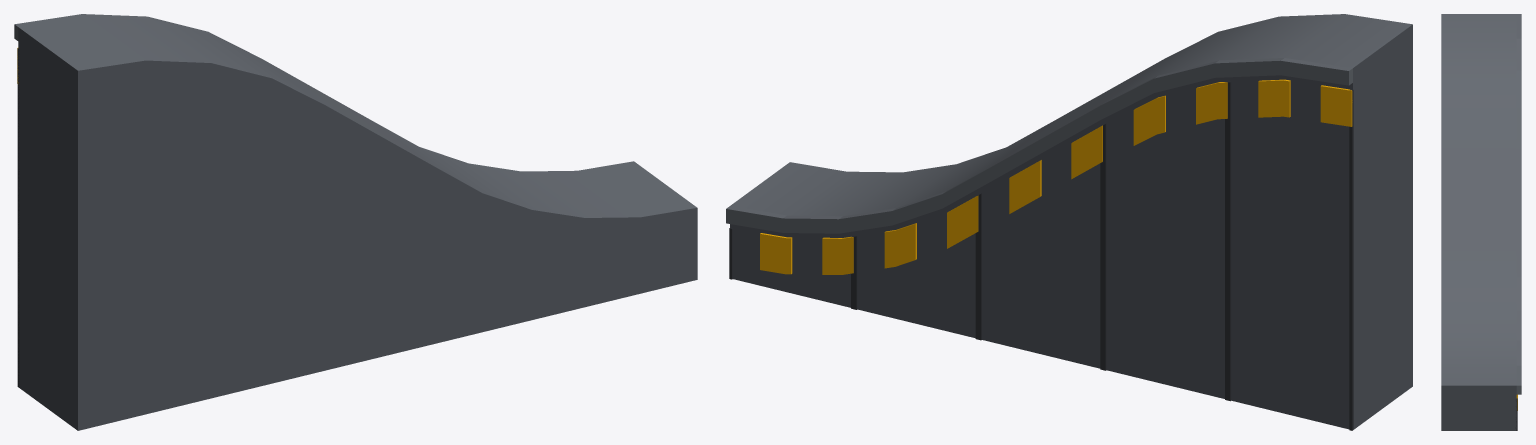
3 views of the same model, side by side, from view 1: azimuth 30°, elevation 25°; view 2: azimuth 150°, elevation 25°; view 3: azimuth 270°, elevation 25° (orthographic). The views are drawn at different scales.
Parts seen in each view (by area): view 1: c2wf; view 2: c2wf; view 3: c2wf.
Boxes of the visible parts, x1,y1,x2,y2 form: c2wf: [14, 14, 697, 430]; c2wf: [726, 14, 1412, 430]; c2wf: [1441, 14, 1521, 430].
Size of the model in its own units: 9 by 5 by 1.6.
